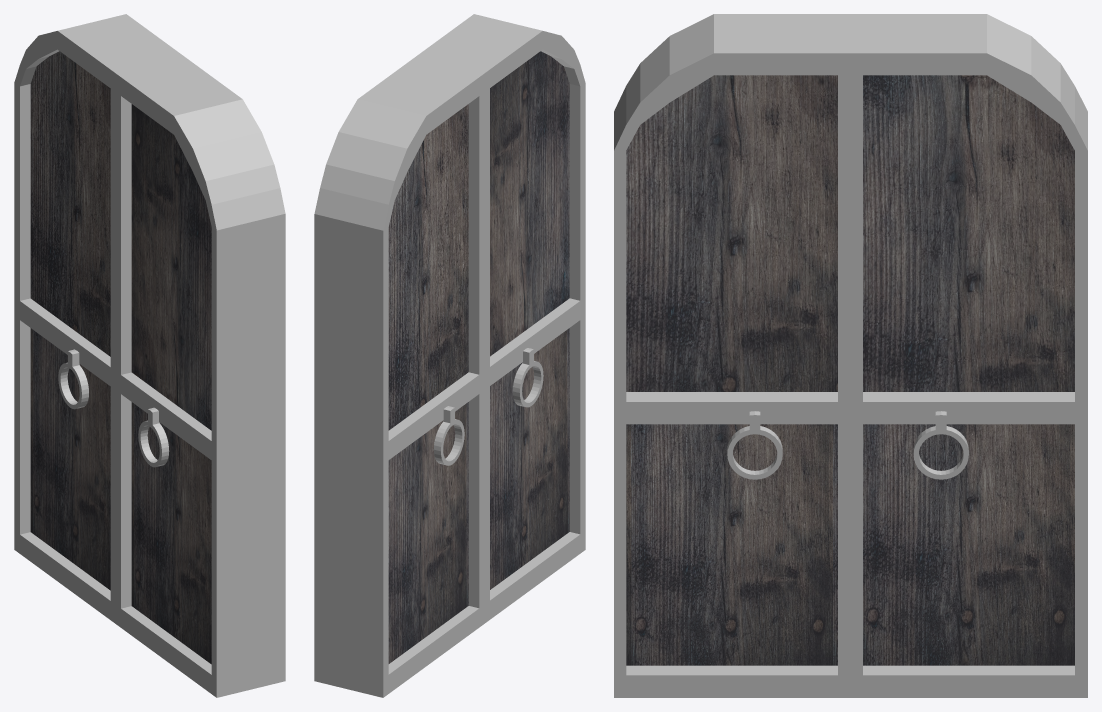
Rendered from double_door.fbx.
3 renders of one model, left to right at view 1: azimuth 30°, elevation 25°; view 2: azimuth 150°, elevation 25°; view 3: azimuth 270°, elevation 25°, orthographic. The views are drawn at different scales.
Visible parts, largest first — view 1: DoorLeft, DoorRight; view 2: DoorRight, DoorLeft; view 3: DoorRight, DoorLeft.
Boxes of the visible parts, x1,y1,x2,y2 form: DoorLeft: (115, 56, 285, 697); DoorRight: (14, 14, 183, 623); DoorRight: (314, 56, 484, 697); DoorLeft: (416, 14, 585, 623); DoorRight: (850, 14, 1087, 697); DoorLeft: (614, 14, 850, 697).
Size of the model in its own units: 32.21 by 205 by 137.
